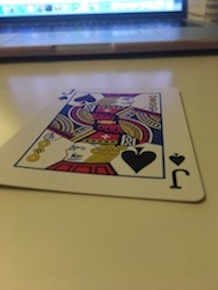JackOfSpades: (1, 80, 210, 212)
